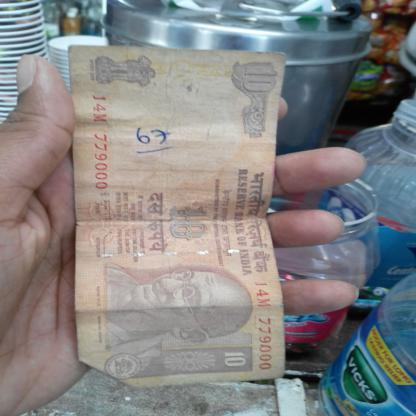Old10Front: (68, 46, 288, 388)
